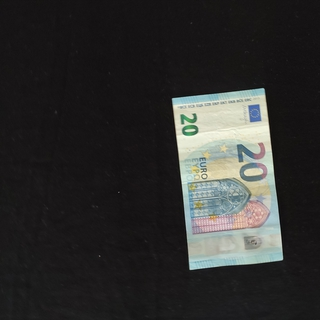20EUROFront: (171, 87, 283, 270)
